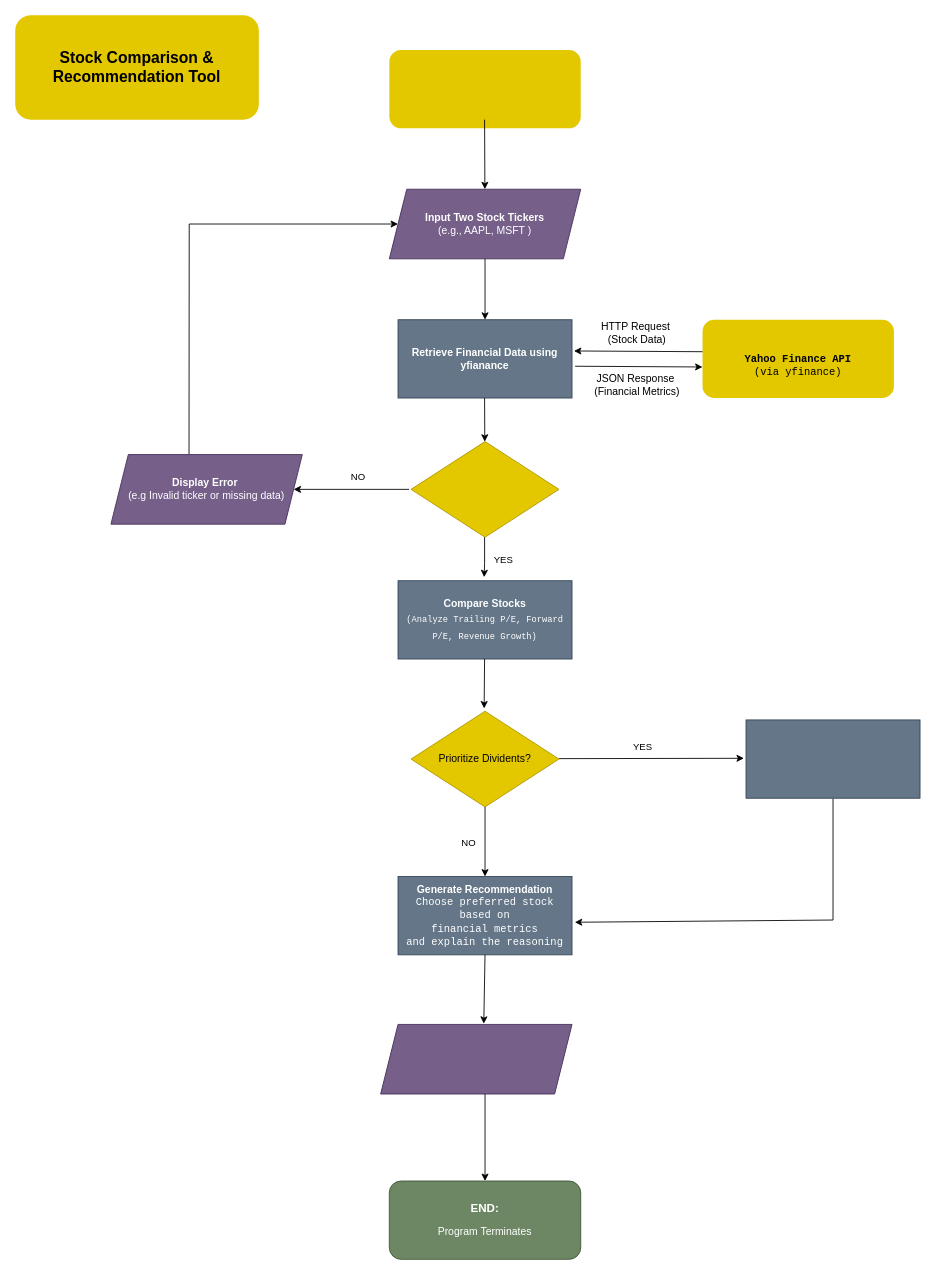
Some shapes in this 935 by 1275 pixel diagram are drawn without their labels. Here are the shapes that lost their labels. From the top down, the centre of each, then its label:
the point at 484,89: START: Run Python Program (main.py)
the point at 484,489: Valid tickers and sufficient data?
the point at 832,758: Include Dividend Yield in Comparison and Scoring
the point at 476,1059: Display Result Comparison Table + Recommended Stock + Explanation
